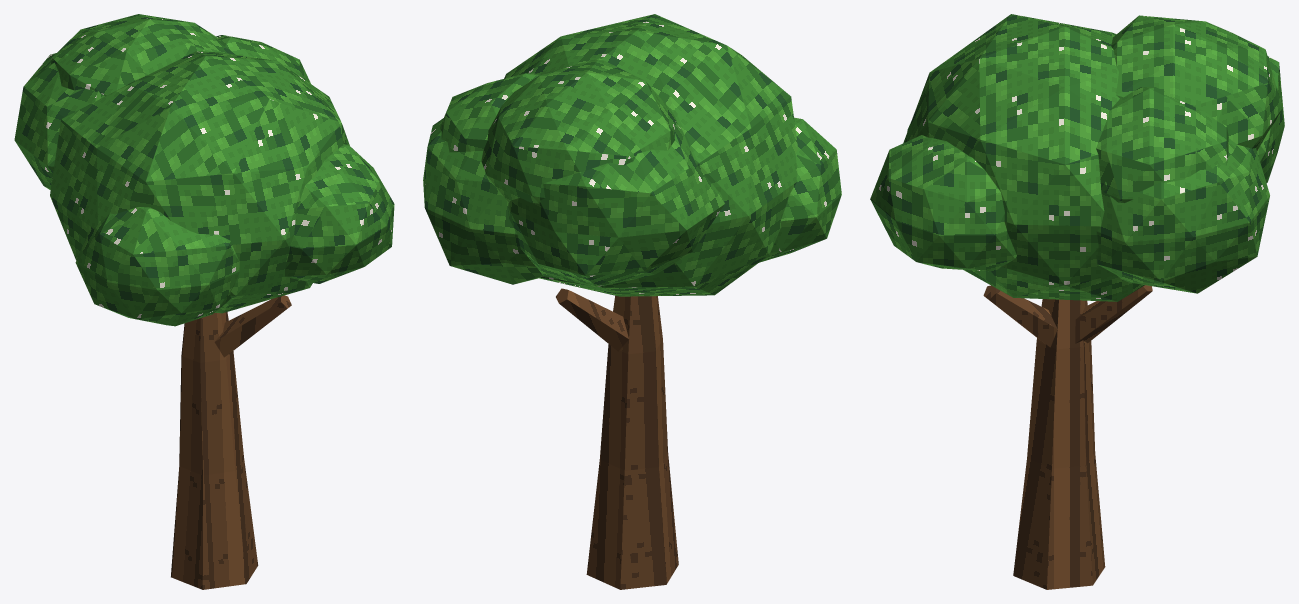
File: oak2.glb
3 views of the same model, side by side, from view 1: azimuth 30°, elevation 25°; view 2: azimuth 150°, elevation 25°; view 3: azimuth 270°, elevation 25° (orthographic). The views are drawn at different scales.
Parts seen in each view (by area): view 1: oak2; view 2: oak2; view 3: oak2.
Boxes of the visible parts, bbox=[...] form: oak2: bbox=[14, 14, 394, 589]; oak2: bbox=[423, 14, 841, 589]; oak2: bbox=[870, 14, 1284, 589].
Size of the model in its own units: 4.37 by 7.12 by 4.93.
2 materials, 2 textured.
